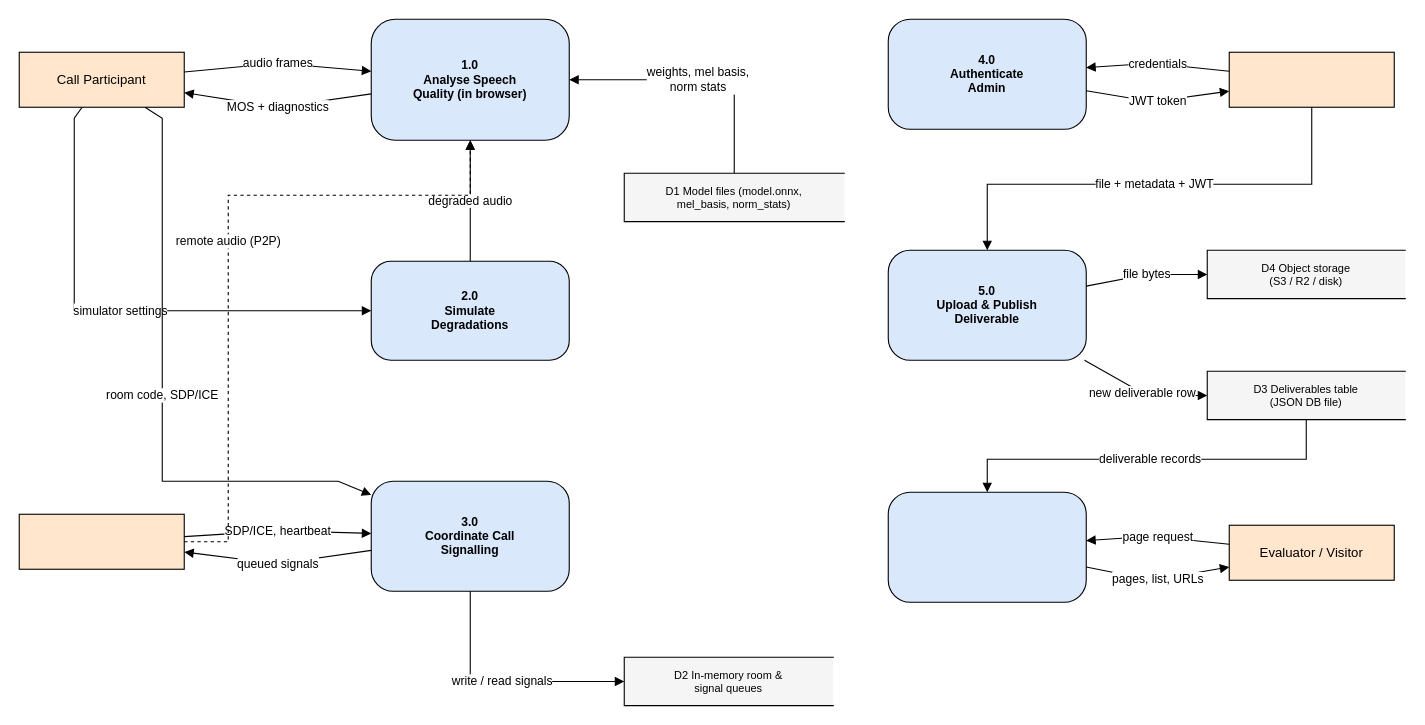
Some shapes in this 1425 by 725 pixel diagram are drawn without their labels. The box of each missing label's shape, as (x1, y1, x2, y2) in pixels:
6.0 Serve Pages & Version History: (887, 491, 1086, 602)
Remote Peer: (18, 513, 184, 569)
Team Admin: (1228, 51, 1394, 107)
